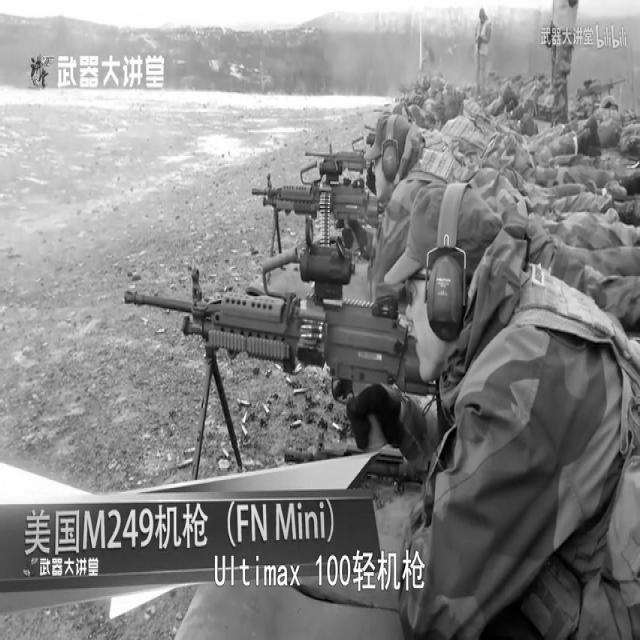Sniper: (93, 207, 478, 544), (217, 73, 395, 320), (292, 90, 396, 252)
